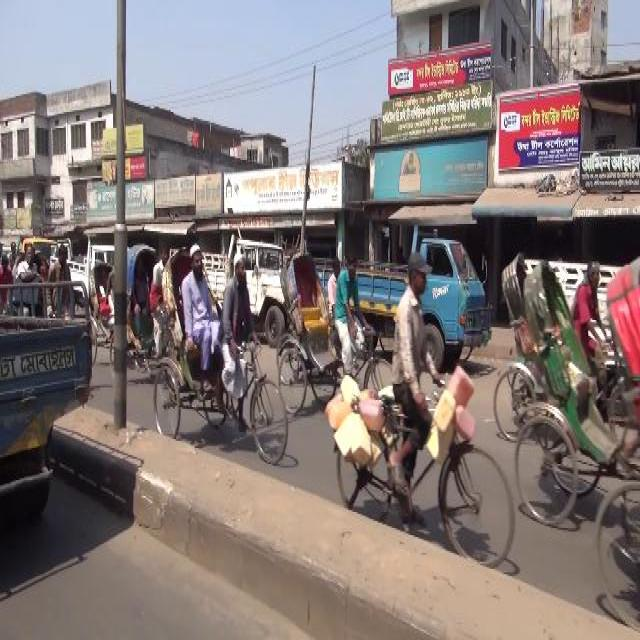11: (312, 235, 500, 372)
13: (150, 242, 298, 466), (520, 262, 640, 532), (278, 245, 389, 427), (127, 244, 173, 378), (85, 261, 115, 379)
Motorcycle: (331, 250, 515, 575)
